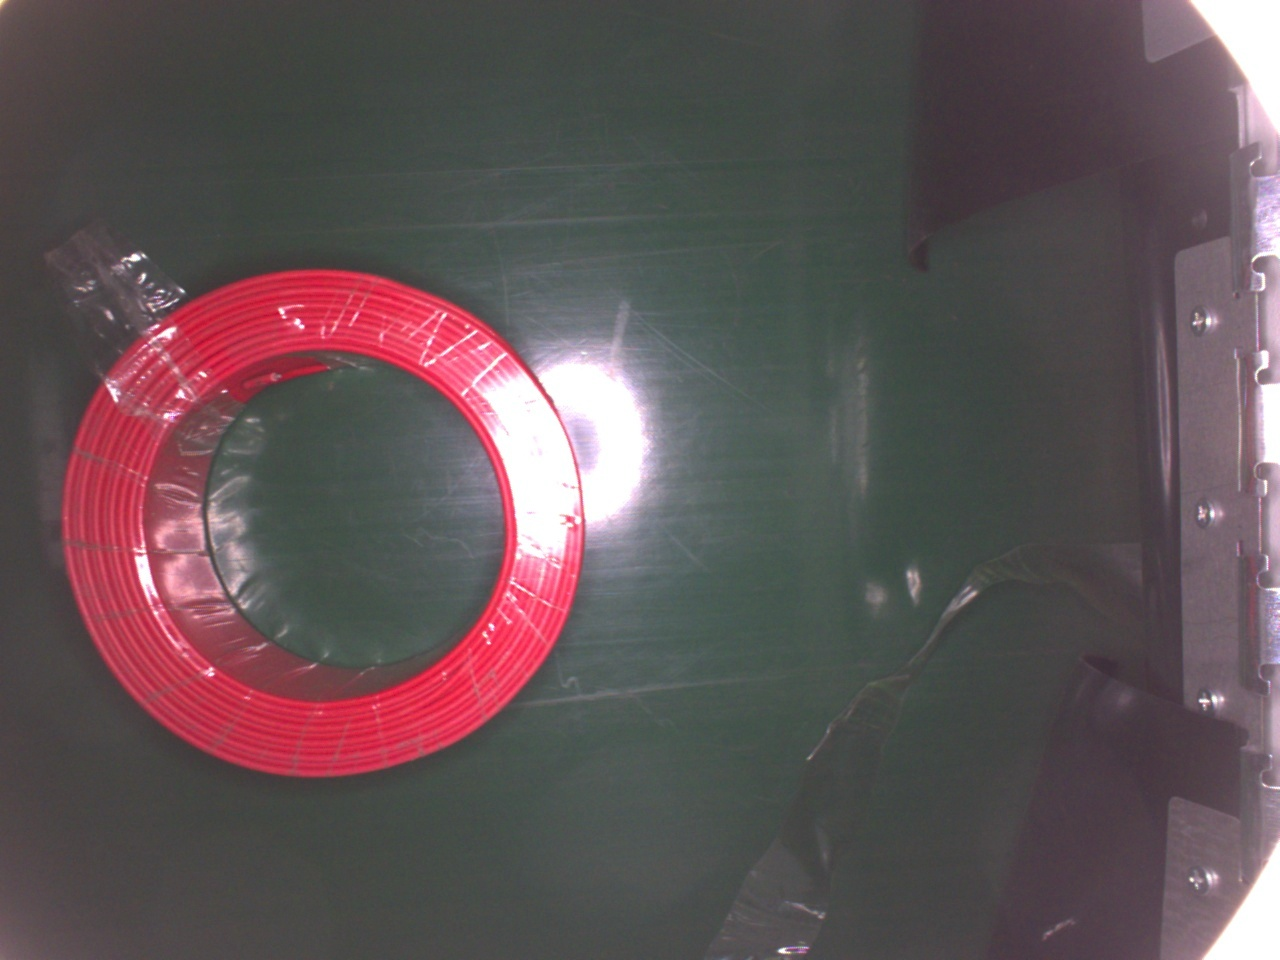red: (65, 268, 585, 789)
